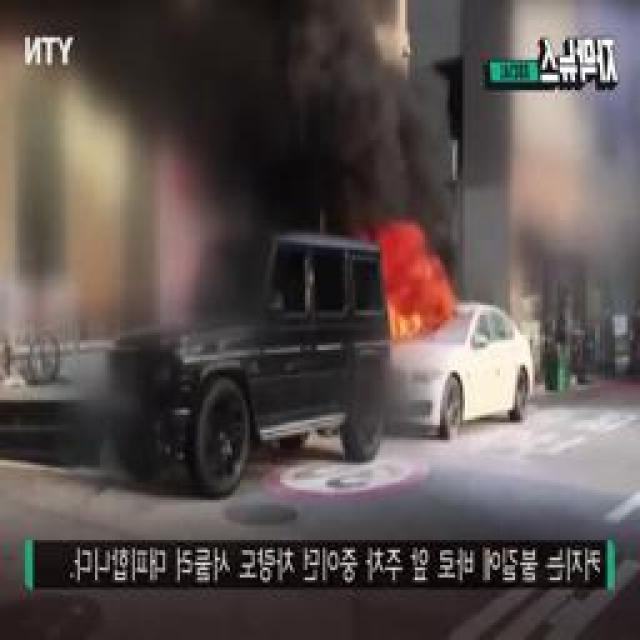Fire: (385, 222, 439, 335)
